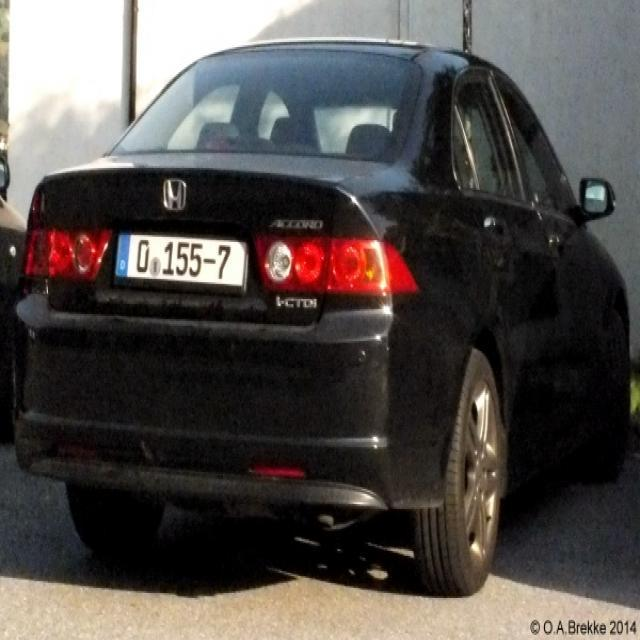license-plates: (115, 234, 247, 292)
